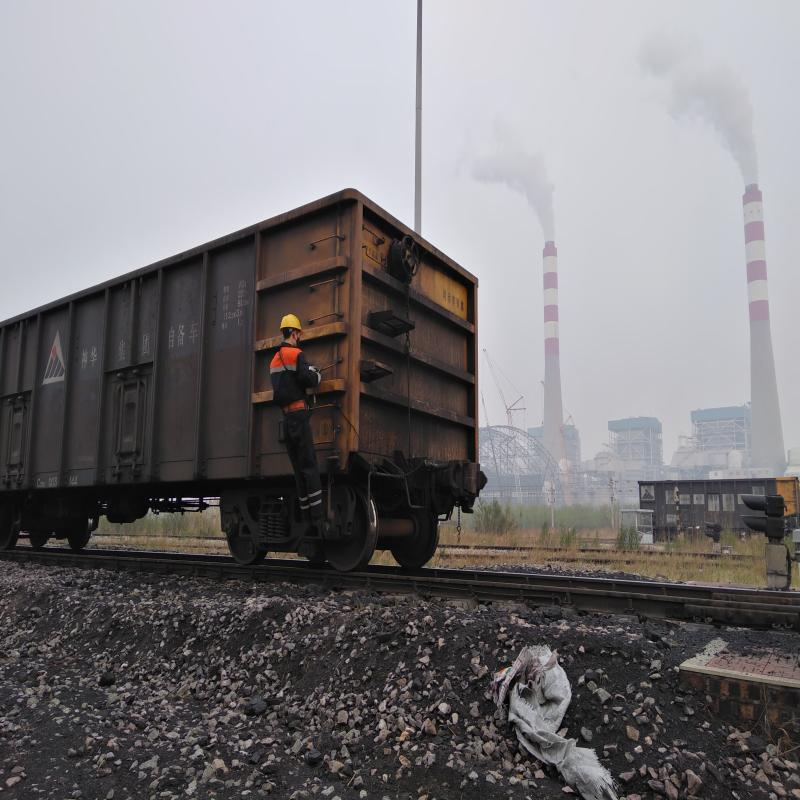train: (8, 312, 147, 545)
